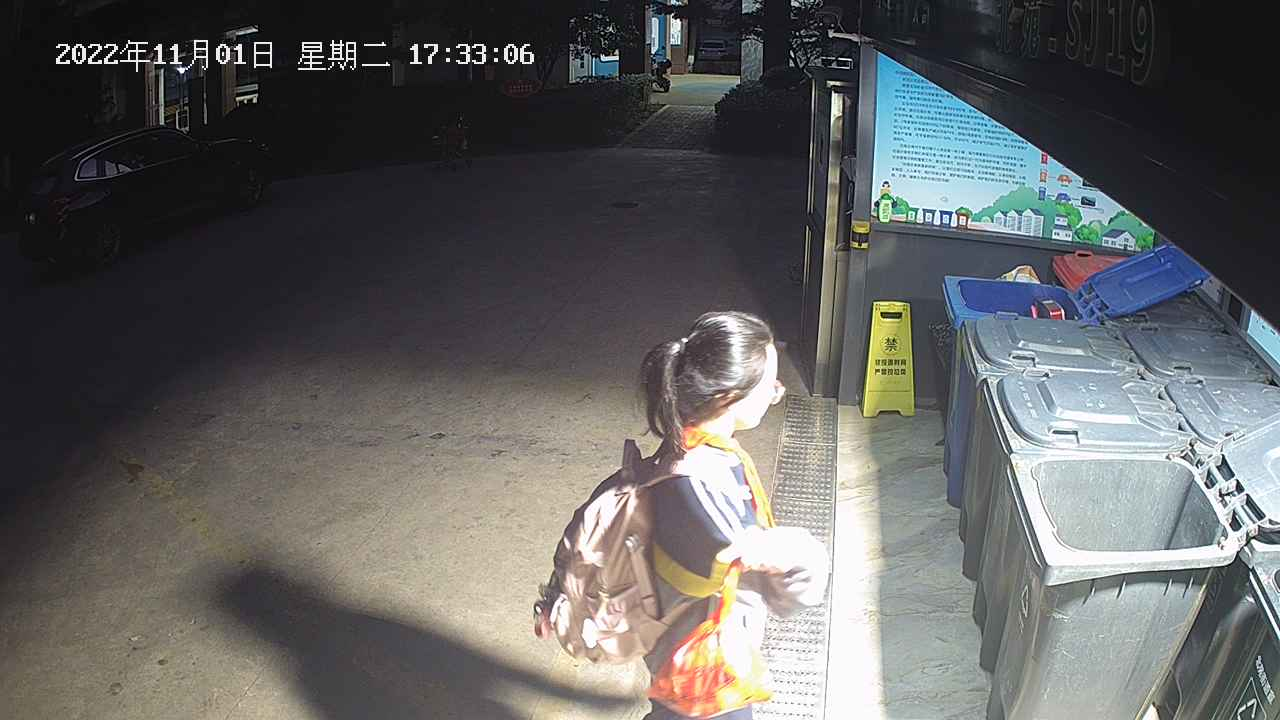garbage-bag: (643, 558, 779, 720)
person: (530, 310, 831, 719)
